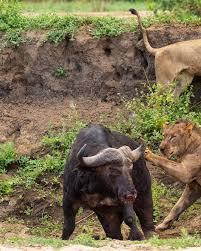Buffalo: (62, 115, 158, 247)
lions: (155, 104, 201, 235)
